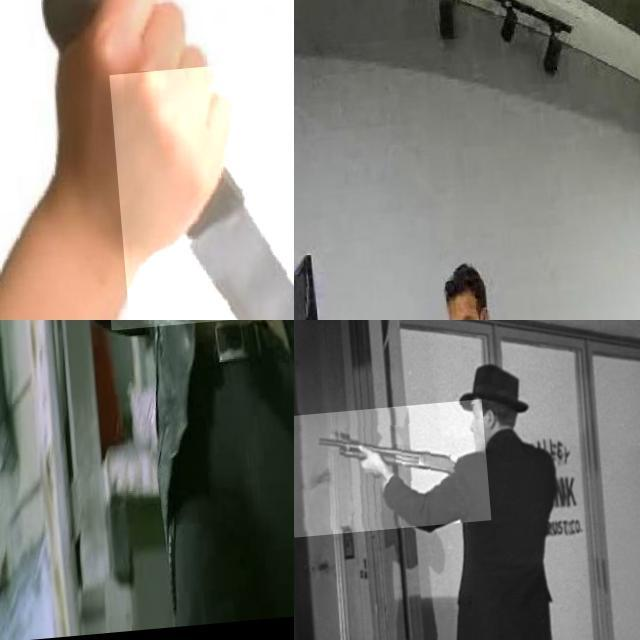-: (107, 57, 294, 320)
gun-knife-thesis - v11 Yolov5 augmented: (85, 320, 258, 482), (294, 407, 486, 542)
